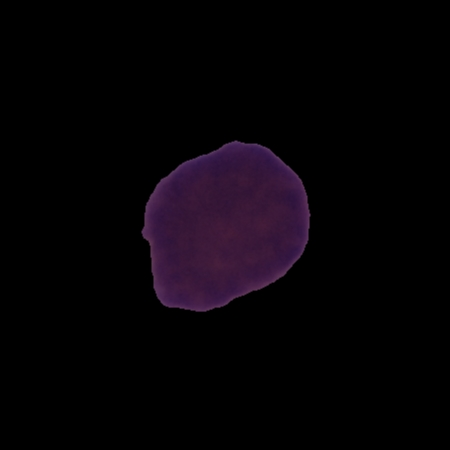HEM: (139, 136, 313, 315)
